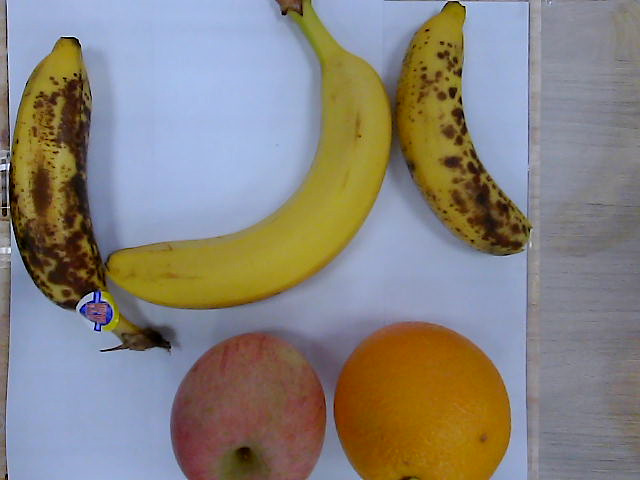fresh_apple: (171, 334, 327, 480)
fresh_banana: (105, 1, 392, 310)
fresh_orange: (334, 322, 513, 480)
rotten_banana: (8, 39, 169, 357), (395, 2, 535, 257)
